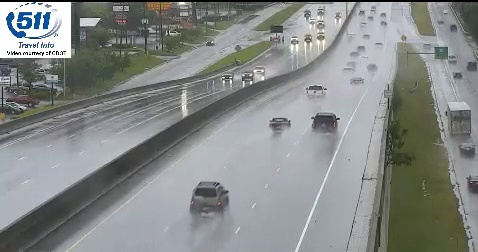car: (191, 183, 228, 213), (312, 113, 337, 134), (269, 117, 291, 131), (307, 85, 326, 98)
